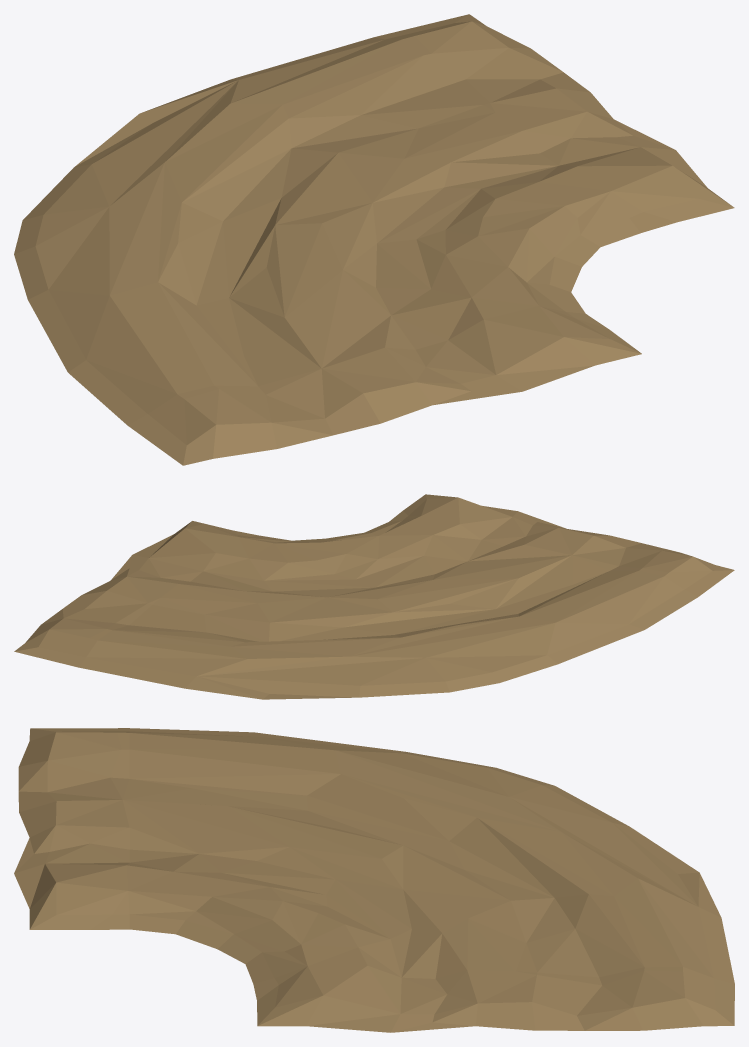
Rendered from SM_Envr_Nature_Farm_DirtRoad_Corner.fbx.
3 renders of one model, top to bottom at view 1: azimuth 30°, elevation 25°; view 2: azimuth 150°, elevation 25°; view 3: azimuth 270°, elevation 25°, orthographic. The views are drawn at different scales.
Visible parts, largest first — view 1: SM_Envr_Nature_Farm_DirtRoad_Corner; view 2: SM_Envr_Nature_Farm_DirtRoad_Corner; view 3: SM_Envr_Nature_Farm_DirtRoad_Corner.
Part boxes in pixels (<box>): SM_Envr_Nature_Farm_DirtRoad_Corner: <box>14,14,734,465</box>; SM_Envr_Nature_Farm_DirtRoad_Corner: <box>14,494,734,699</box>; SM_Envr_Nature_Farm_DirtRoad_Corner: <box>14,728,734,1032</box>.
Size of the model in its own units: 989 by 31.73 by 989.
